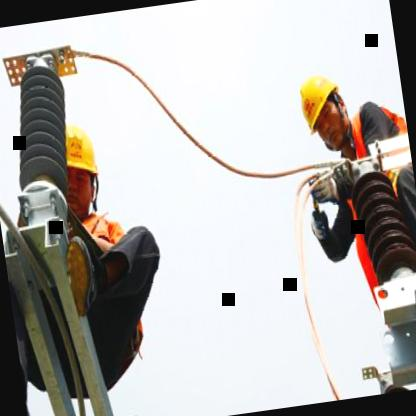helmet: (49, 122, 106, 227), (294, 74, 350, 150)
